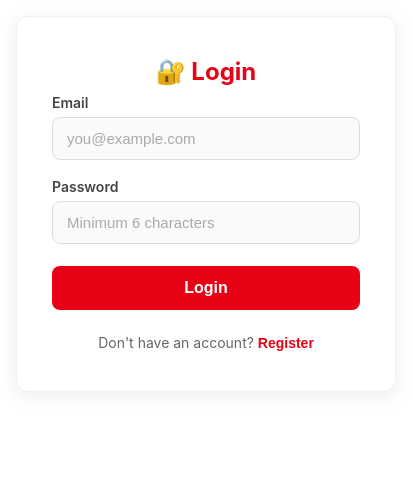
Test: AuthForm › SignUp flow › should display error message when sign up fails
This screenshot has width=413, height=492.
Click the button "Register" at (286,343), box [258, 335, 314, 351]
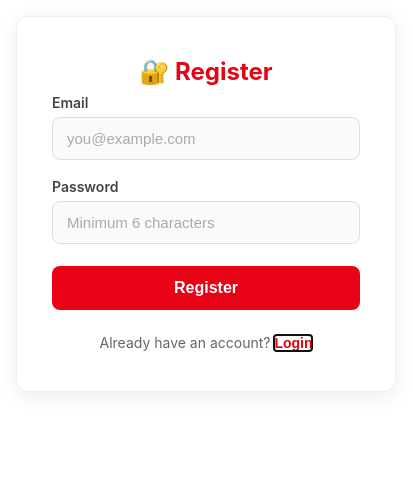
Type "existing@example.com" into the field labelled "Email" at (206,138), box [52, 117, 360, 160]
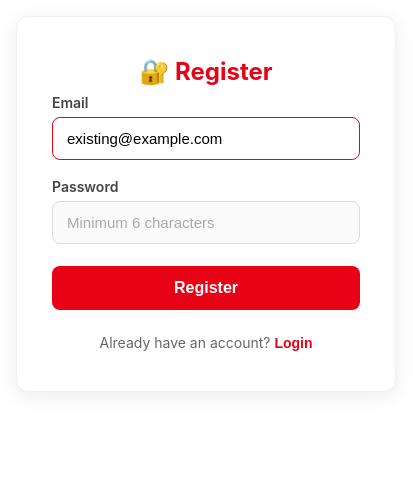
Type "password123" into the password field labelled "Password" at (206,222), box [52, 201, 360, 244]
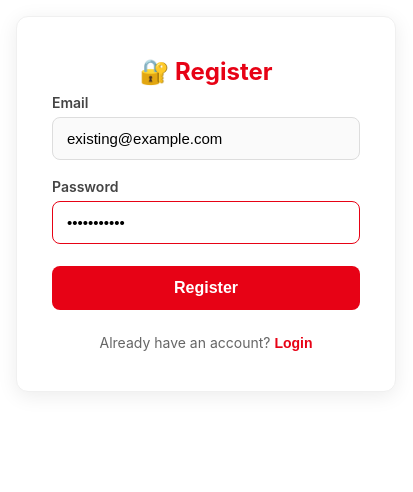
Click the button "Register" at (206,288), box [52, 266, 360, 310]
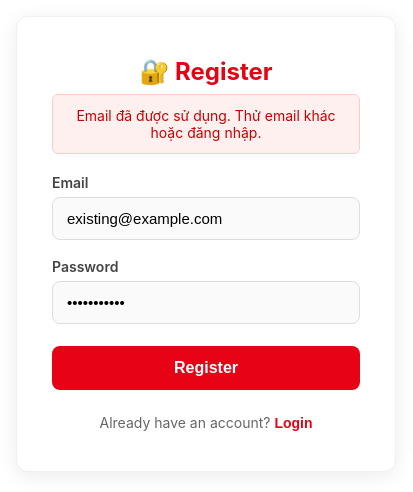
Now the text "Email đã được sử dụng. Thử email khác hoặc đăng nhập." is shown, box [52, 94, 360, 154]
